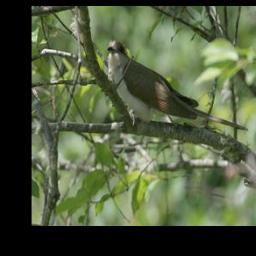Cuckoo: (108, 38, 250, 134)
